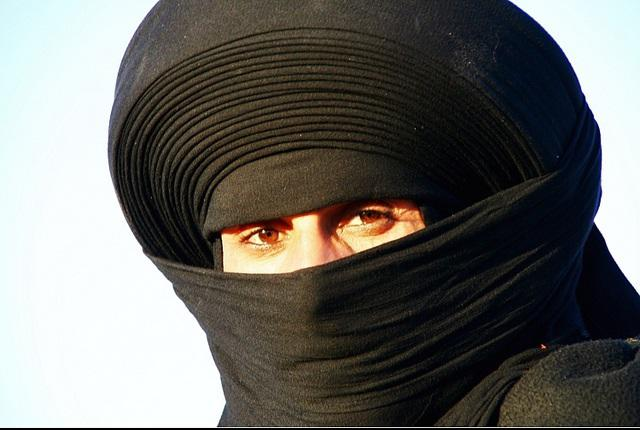OK: (198, 166, 459, 413)
